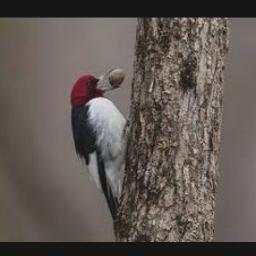Woodpecker: (70, 68, 129, 238)
